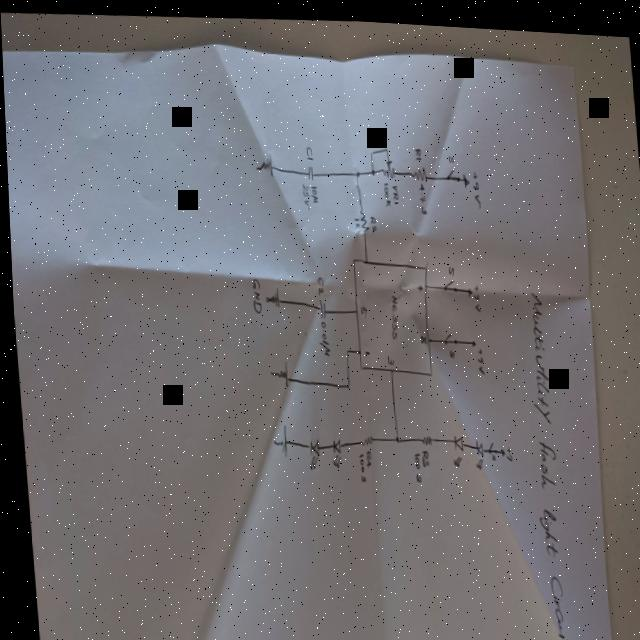capacitor: (315, 292, 324, 315), (306, 159, 313, 176)
diode: (447, 426, 461, 461), (303, 433, 317, 466), (327, 431, 339, 464), (470, 431, 482, 463)
ground: (266, 354, 286, 384), (268, 418, 284, 454), (253, 146, 272, 173), (261, 280, 279, 304)
junction: (354, 163, 359, 173), (391, 427, 396, 437), (342, 342, 347, 349), (370, 162, 374, 170), (344, 376, 347, 384), (369, 144, 372, 150), (384, 140, 387, 146)
resistor: (408, 158, 426, 177), (357, 199, 368, 227), (380, 153, 394, 173), (356, 428, 370, 441), (417, 427, 428, 440)
source: (461, 165, 468, 181), (464, 279, 470, 291), (468, 332, 474, 341), (497, 440, 501, 450)
switch: (444, 161, 459, 176), (441, 271, 454, 287), (441, 326, 455, 338), (484, 433, 493, 447)
text: (518, 282, 568, 640), (386, 288, 398, 334), (315, 315, 328, 352), (248, 273, 259, 310), (470, 162, 479, 203), (416, 176, 426, 209), (472, 339, 482, 368), (355, 446, 363, 478), (410, 445, 418, 477), (470, 276, 478, 306), (382, 176, 390, 203), (301, 178, 309, 205), (416, 443, 426, 461), (390, 177, 398, 199), (308, 180, 317, 199), (303, 139, 313, 156), (314, 271, 322, 291), (360, 444, 368, 463), (368, 210, 375, 228), (413, 141, 421, 155), (352, 211, 359, 225), (357, 299, 364, 313), (384, 347, 391, 360), (502, 439, 508, 453), (446, 258, 452, 270), (446, 342, 453, 352), (417, 328, 424, 338), (446, 148, 453, 157), (414, 276, 421, 285), (361, 344, 367, 351), (488, 446, 492, 454)
